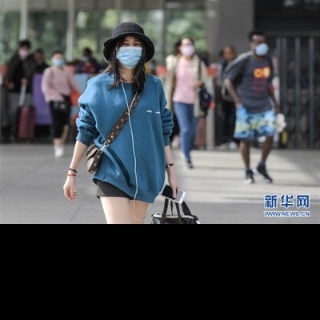with_mask: (115, 38, 144, 68), (254, 38, 270, 57), (179, 42, 195, 58), (52, 54, 66, 68), (20, 45, 29, 58)
